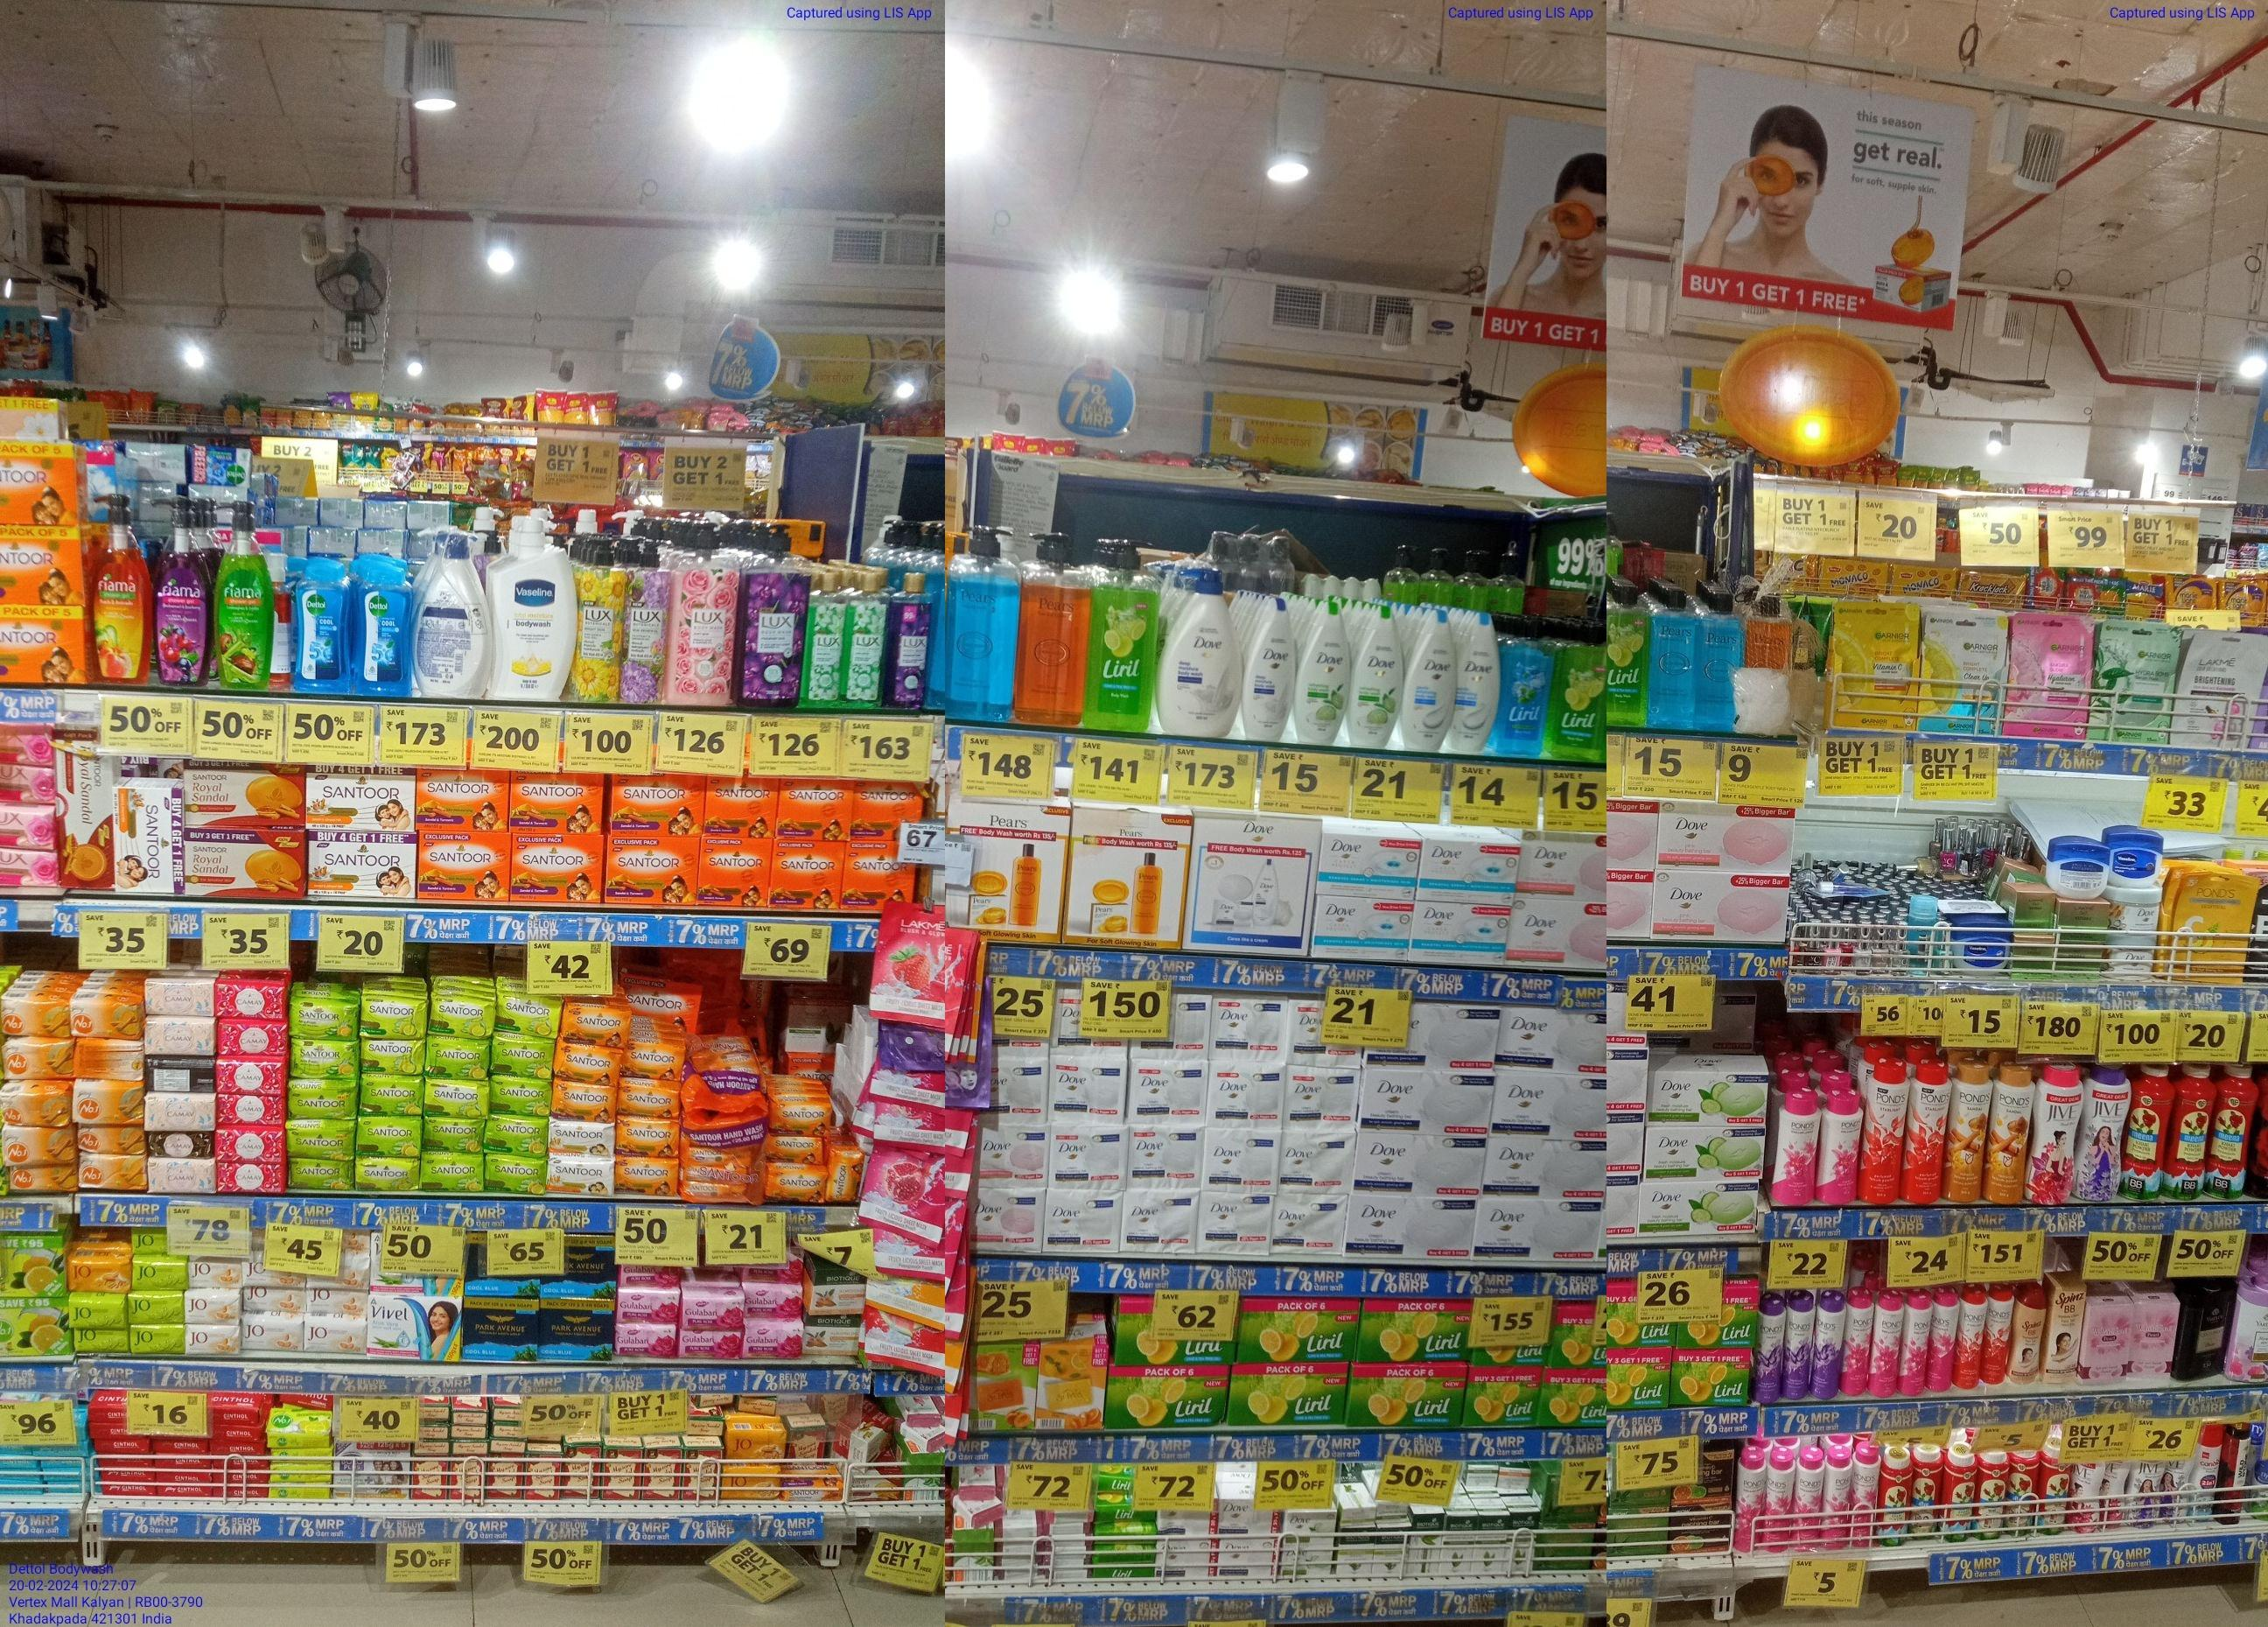Dettol_Bodywash_Cool: (294, 562, 352, 692), (355, 565, 410, 696)
Dove_Deep_Moisture_Body_Wash_250ML: (1247, 599, 1295, 741)
Dove_Gentle_Exfoliating_Body_Wash_250ML: (1406, 609, 1455, 752), (1459, 615, 1497, 752)
Dove_Refreshing_Body_Wash_250ML: (1300, 602, 1350, 745), (1353, 609, 1402, 745)
Liril_Cooling_Mint_Body_Wash_250ML: (1503, 623, 1552, 757)
Liril_Lime_and_Tea_Tree_Oil_Body_Wash_250ML: (1605, 579, 1649, 729)
Lux_Black_Orchid_Scent_and_Juniper_Oil_Body_Wash_245ML: (885, 571, 933, 708)
Lux_Body_Wash_Skin_Detox_Freesia_Scent_and_Alove_Vera_245ML: (808, 569, 845, 706), (846, 572, 882, 708)
Pears_Pure_Glycerin_and_Mint_Extracts_Body_Wash_250ML: (1652, 592, 1696, 729), (1700, 588, 1737, 733)
